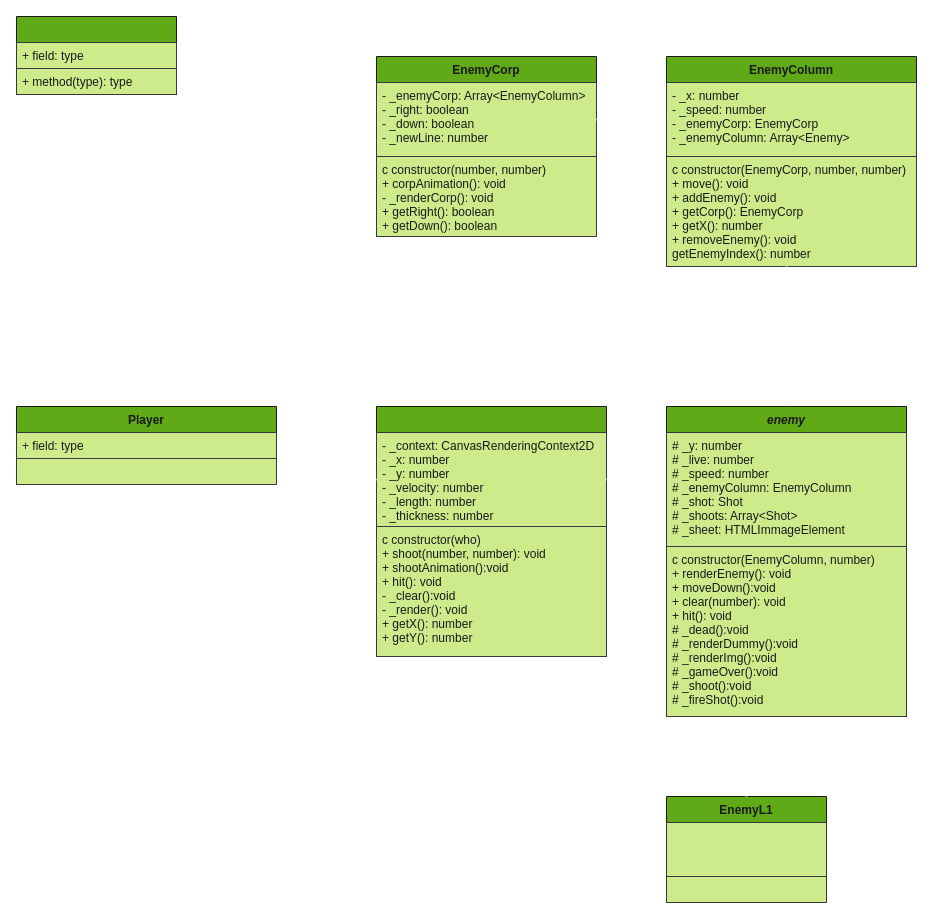
This 933x919 diagram has some shape labels left out. Each missing label, with the box of its shape:
_live: number - _tileFrameX: number - _tileFrameY: number: (666, 822, 826, 876)
_renderImb(): void: (666, 876, 826, 902)
c player(context: CanvasRenderingContext2D): (16, 458, 276, 484)
main: (16, 16, 176, 94)
shot: (376, 406, 606, 656)
